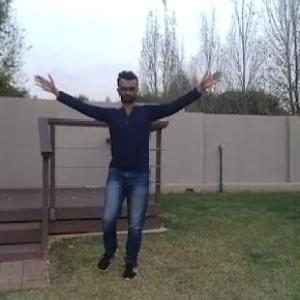takeoff: (35, 79, 214, 280)
